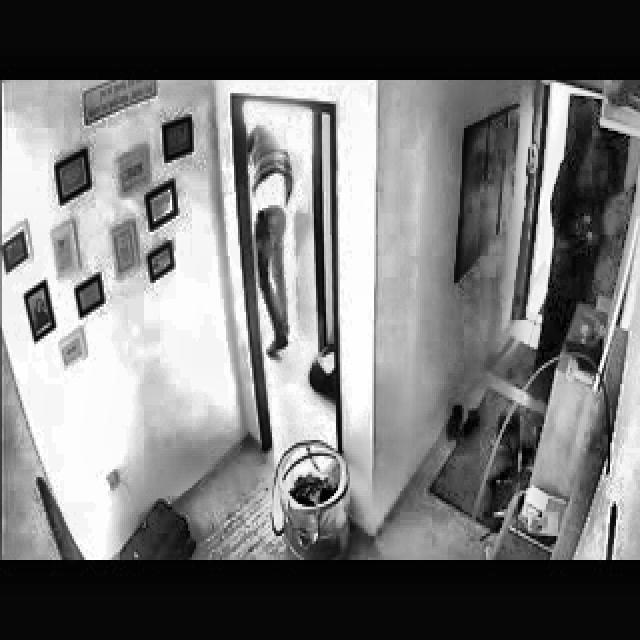burglary: (240, 96, 340, 364)
